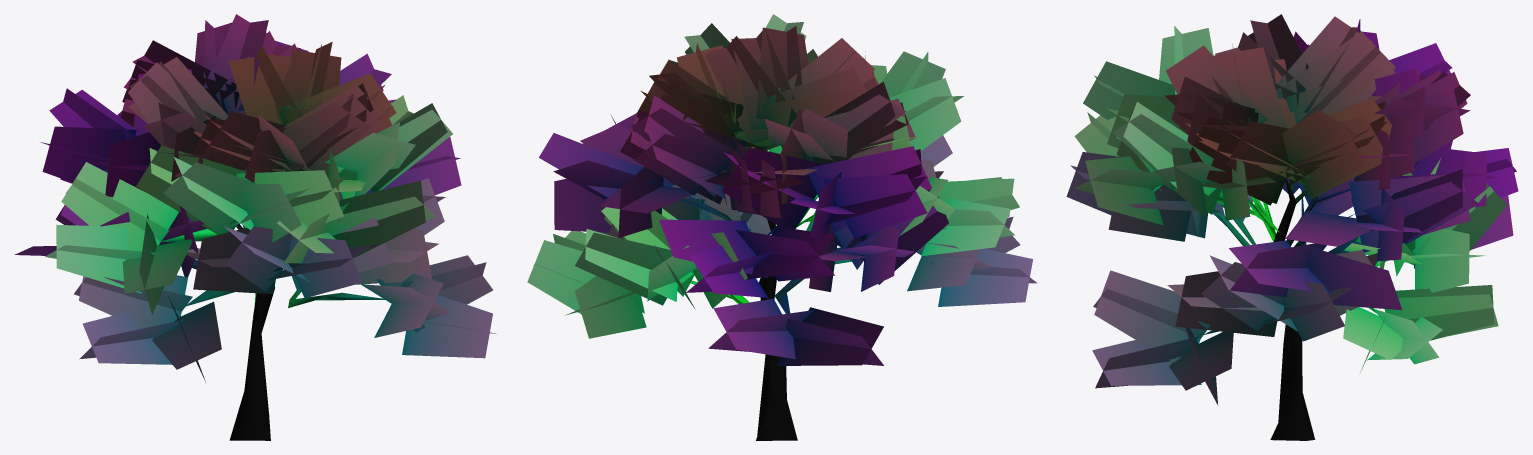
Rendered from SM_Mobile5_1.fbx.
The picture shows the model from 3 angles, left to right: view 1: azimuth 30°, elevation 25°; view 2: azimuth 150°, elevation 25°; view 3: azimuth 270°, elevation 25°; orthographic projection. The views are drawn at different scales.
Visible parts, largest first — view 1: _1; view 2: _1; view 3: _1.
Part boxes in pixels (left/top/right/bottom): _1: left=14, top=14, right=497, bottom=440; _1: left=527, top=14, right=1037, bottom=440; _1: left=1066, top=14, right=1518, bottom=440.
Size of the model in its own units: 2108 by 1794 by 1947.
